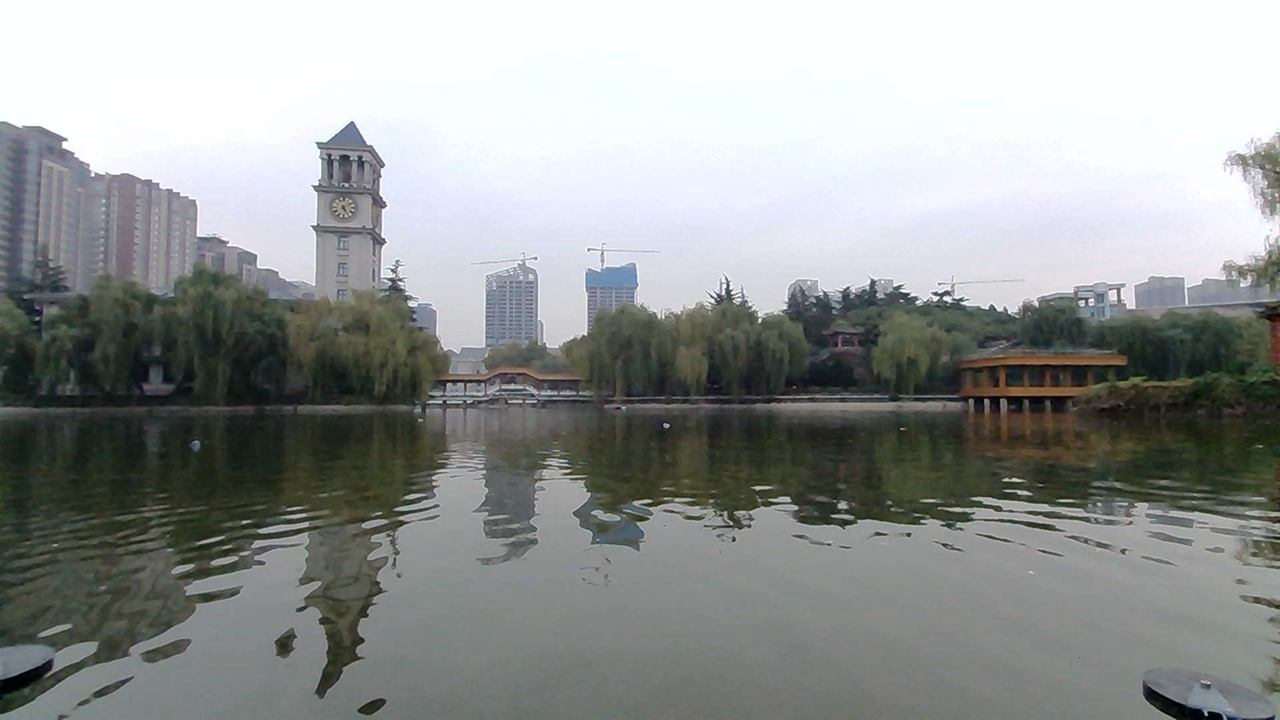bottle: (181, 435, 215, 457), (649, 411, 685, 430)
